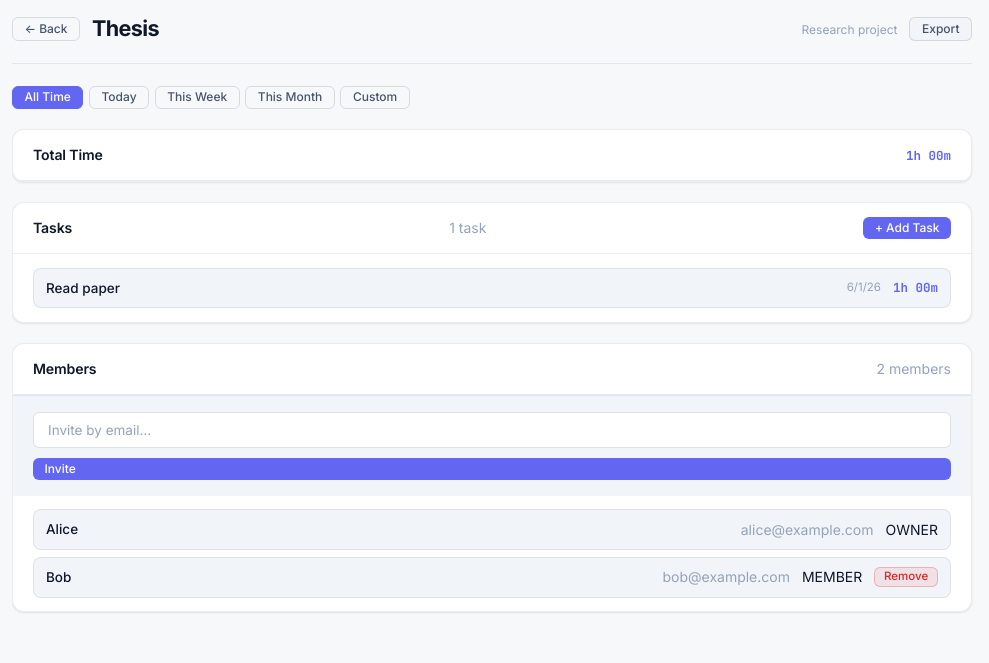
it: ProjectDetailPage › clears invite error when user types in the email input
This screenshot has width=989, height=663.
Check: the form with test id "invite-form" is shown, box x1=13 y1=395 x2=971 y2=496
Step 1. Type "bad@x.com" into the field with test id "invite-email-input" → (492, 430), box x1=33 y1=412 x2=951 y2=448
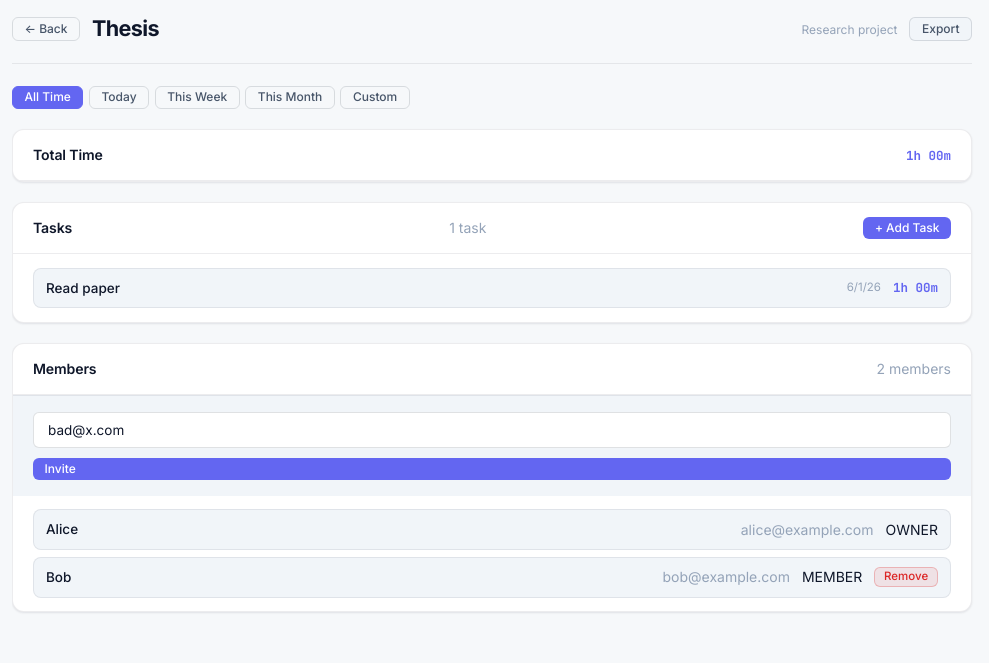
Step 2. Click the button with test id "invite-submit-btn" → (60, 468), box x1=33 y1=458 x2=951 y2=480
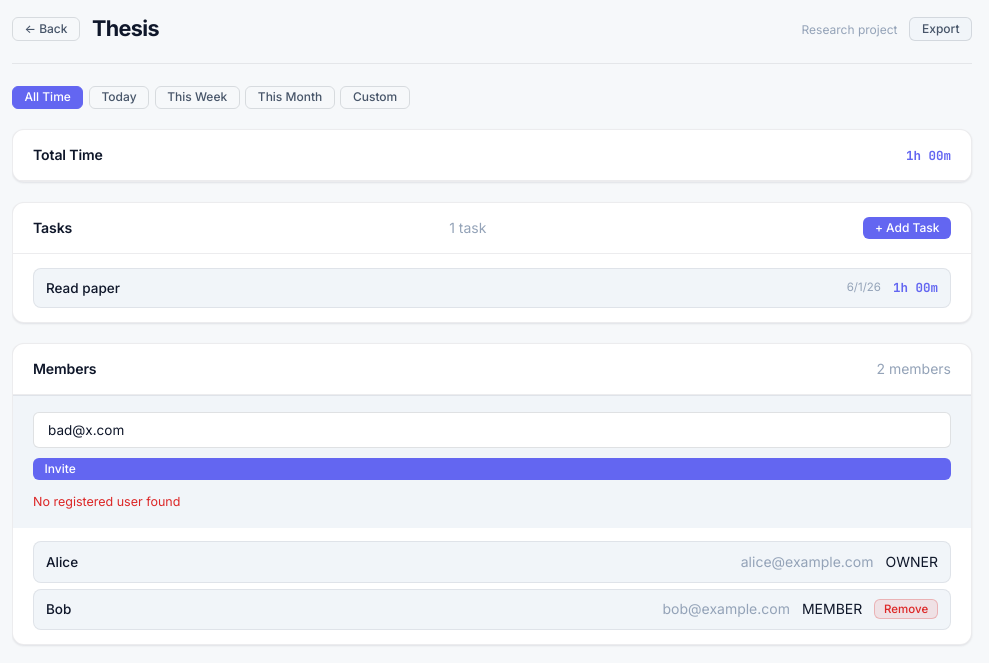
Check: the message "No registered user found" is shown, box x1=33 y1=494 x2=180 y2=509
Step 3. Replace the text in the field with test id "invite-email-input" with "good@x.com" → (492, 430), box x1=33 y1=412 x2=951 y2=448
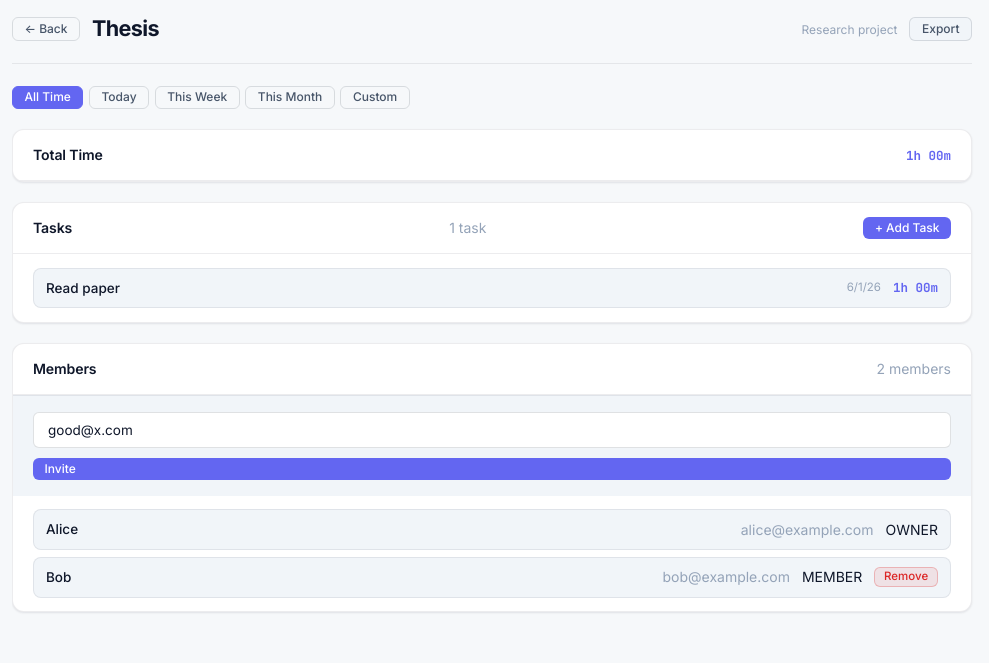
Check: the message with test id "invite-error" is gone
